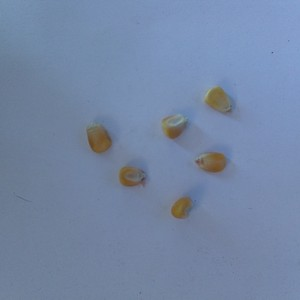maiz: (201, 85, 238, 115), (159, 109, 191, 142), (113, 162, 149, 191), (83, 121, 113, 155), (193, 148, 230, 174), (167, 193, 197, 222)
